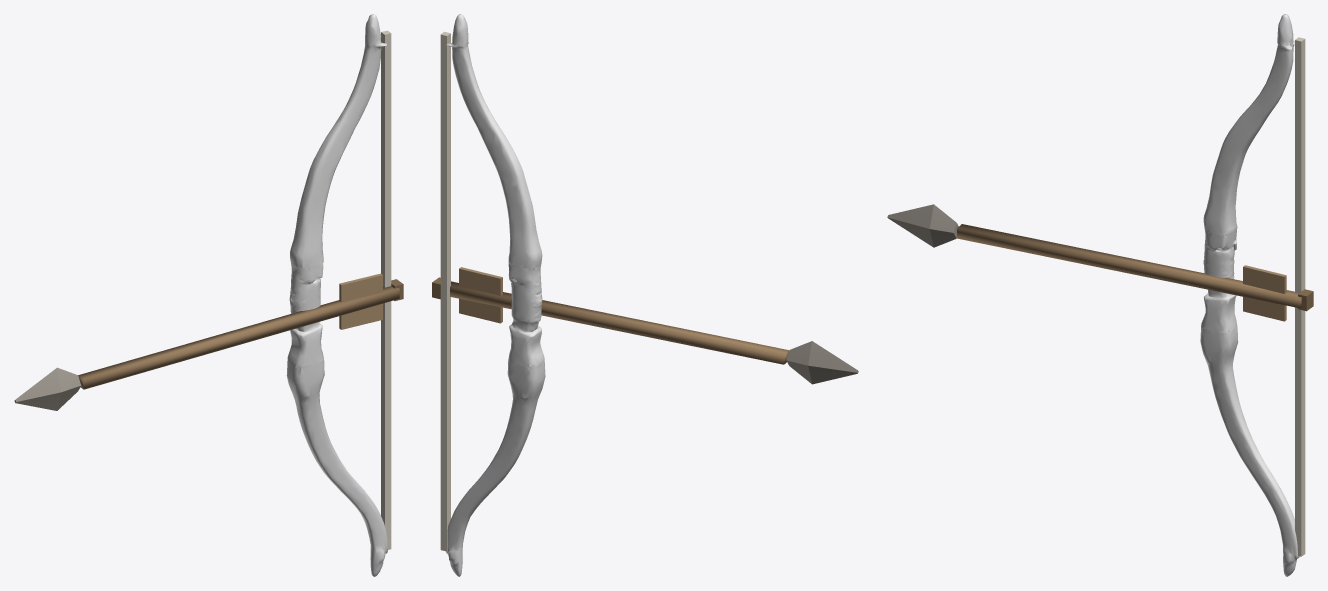
3 renders of one model, left to right at view 1: azimuth 30°, elevation 25°; view 2: azimuth 150°, elevation 25°; view 3: azimuth 330°, elevation 25°, orthographic.
Visible parts, largest first — view 1: wooden_bow; view 2: wooden_bow; view 3: wooden_bow.
Boxes of the visible parts, bbox=[...] form: wooden_bow: bbox=[14, 14, 403, 576]; wooden_bow: bbox=[432, 14, 858, 576]; wooden_bow: bbox=[887, 14, 1313, 576].
Size of the model in its own units: 0.737 by 0.982 by 0.0949.
